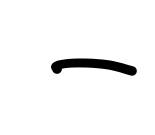minus: (50, 57, 135, 75)
